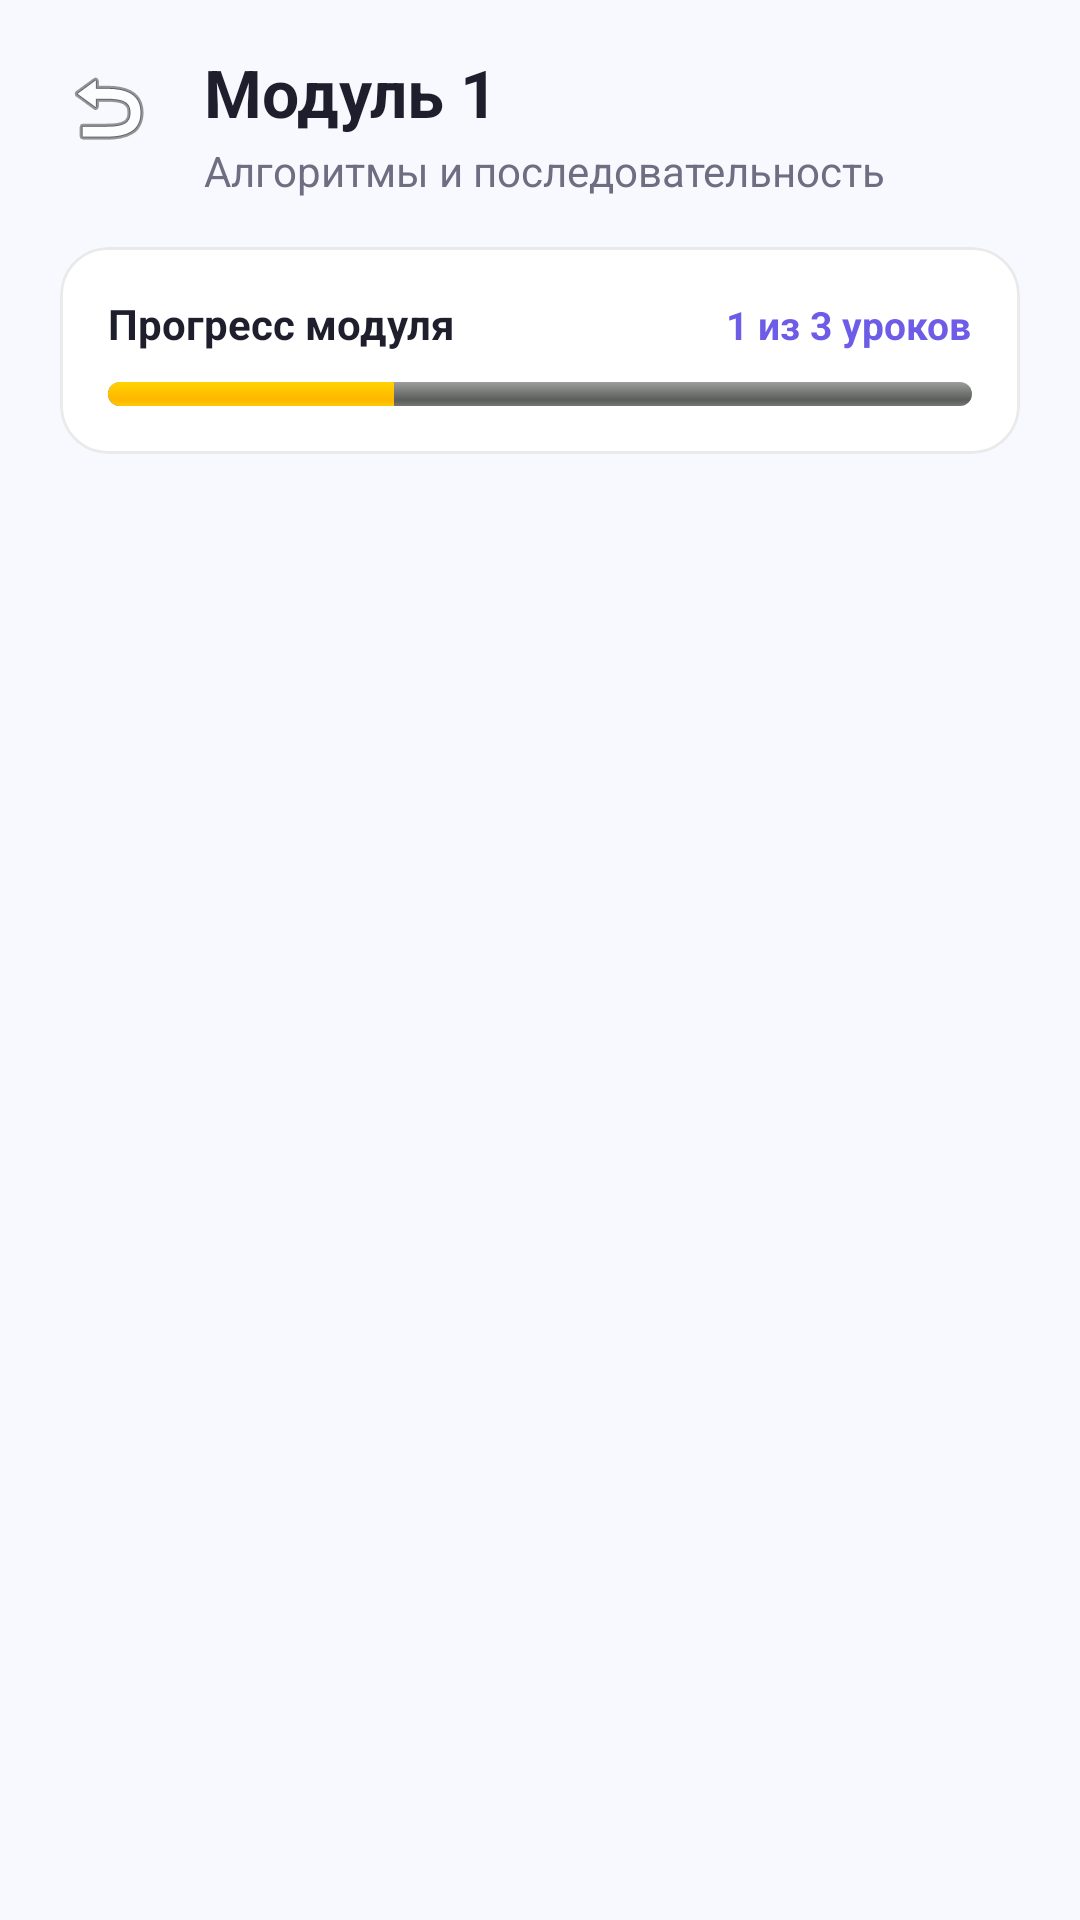

Locate icon controls on the screen. Image size 1080w x 1920h, boxes as detection(x1, y1, x2, y2).
Назад: detection(75, 77, 144, 140)
